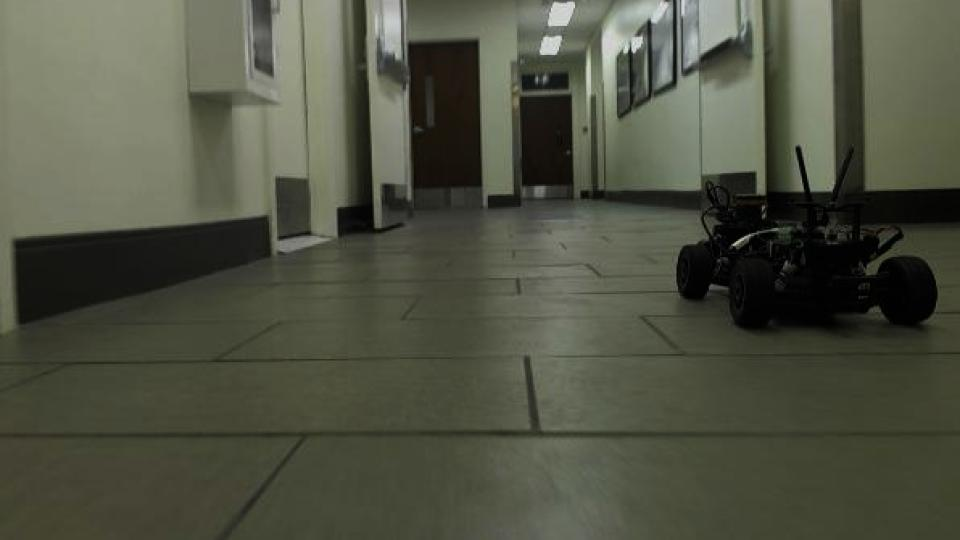car: (674, 140, 942, 332)
